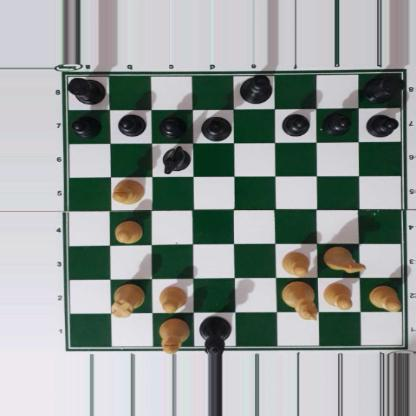black-bishop: (198, 116, 232, 142)
black-king: (237, 74, 273, 104)
black-knight: (160, 144, 192, 174)
black-pawn: (366, 112, 397, 137), (71, 114, 101, 137), (117, 113, 145, 137), (281, 111, 309, 135), (159, 114, 186, 138), (323, 111, 351, 134)
black-queen: (198, 314, 231, 355)
black-rook: (65, 75, 107, 104), (364, 73, 404, 102)
white-bishop: (159, 315, 187, 354), (111, 178, 143, 204)
white-king: (282, 281, 316, 319)
white-knight: (323, 245, 367, 274)
white-pawn: (322, 282, 354, 310), (368, 284, 400, 310), (158, 285, 187, 313), (112, 219, 144, 244), (281, 250, 310, 276)
white-rook: (108, 283, 145, 318)
